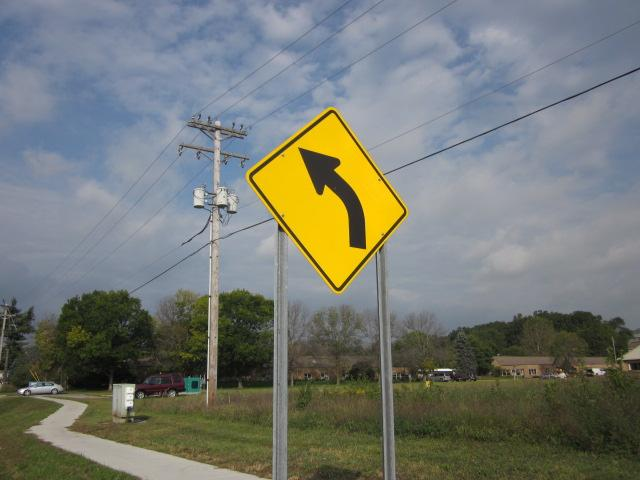warning: (245, 105, 413, 294)
